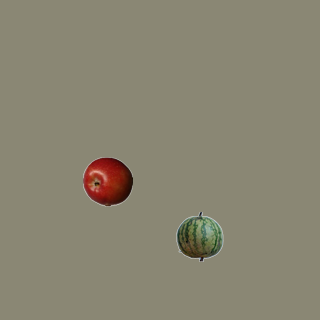Apple Braeburn: (82, 156, 132, 206)
Watermelon: (174, 211, 224, 261)
